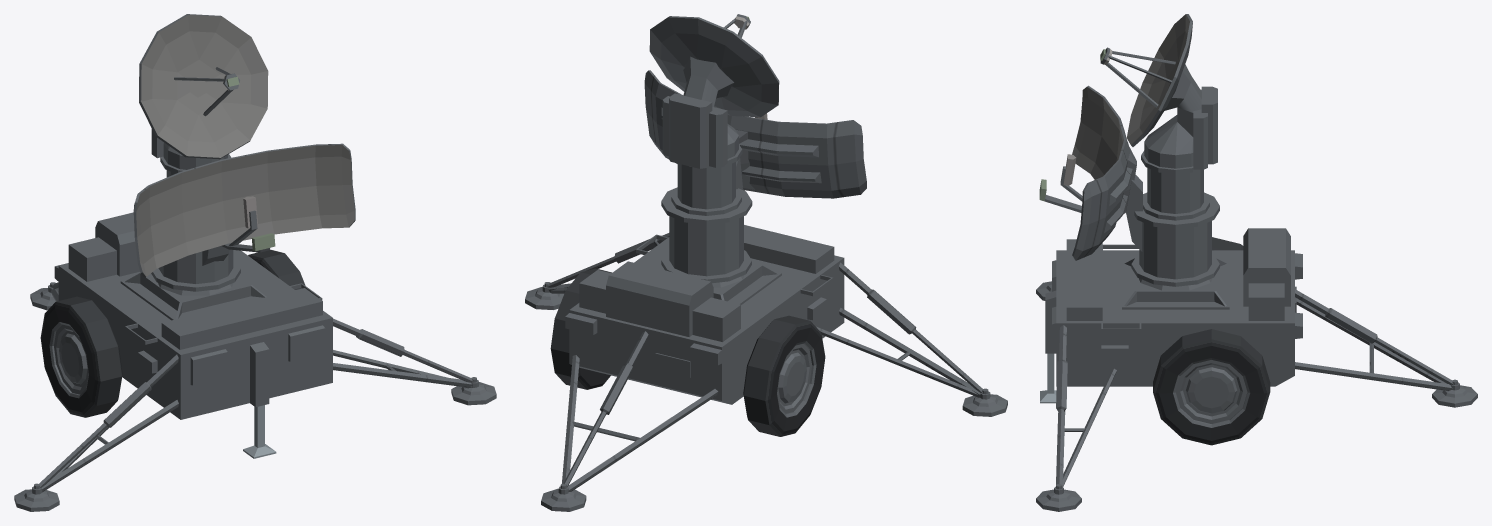
File: SM_Prop_Mobile_Radar_01.fbx
The picture shows the model from 3 angles, left to right: view 1: azimuth 30°, elevation 25°; view 2: azimuth 150°, elevation 25°; view 3: azimuth 270°, elevation 25°; orthographic projection. The views are drawn at different scales.
Parts seen in each view (by area): view 1: SM_Prop_Mobile_Radar_01, SM_Prop_Mobile_Radar_01_Mid, SM_Prop_Mobile_Radar_01_Top; view 2: SM_Prop_Mobile_Radar_01, SM_Prop_Mobile_Radar_01_Top, SM_Prop_Mobile_Radar_01_Mid; view 3: SM_Prop_Mobile_Radar_01, SM_Prop_Mobile_Radar_01_Mid, SM_Prop_Mobile_Radar_01_Top.
Boxes of the visible parts, x1=… form: SM_Prop_Mobile_Radar_01: x1=14, y1=212, x2=496, y2=511; SM_Prop_Mobile_Radar_01_Mid: x1=133, y1=143, x2=355, y2=291; SM_Prop_Mobile_Radar_01_Top: x1=139, y1=14, x2=268, y2=177; SM_Prop_Mobile_Radar_01: x1=525, y1=225, x2=1007, y2=511; SM_Prop_Mobile_Radar_01_Top: x1=649, y1=14, x2=779, y2=215; SM_Prop_Mobile_Radar_01_Mid: x1=644, y1=70, x2=866, y2=283; SM_Prop_Mobile_Radar_01: x1=1036, y1=228, x2=1477, y2=511; SM_Prop_Mobile_Radar_01_Mid: x1=1039, y1=85, x2=1219, y2=286; SM_Prop_Mobile_Radar_01_Top: x1=1100, y1=14, x2=1217, y2=220.
Bounding box in the file's own units: 492 × 379 × 403.
